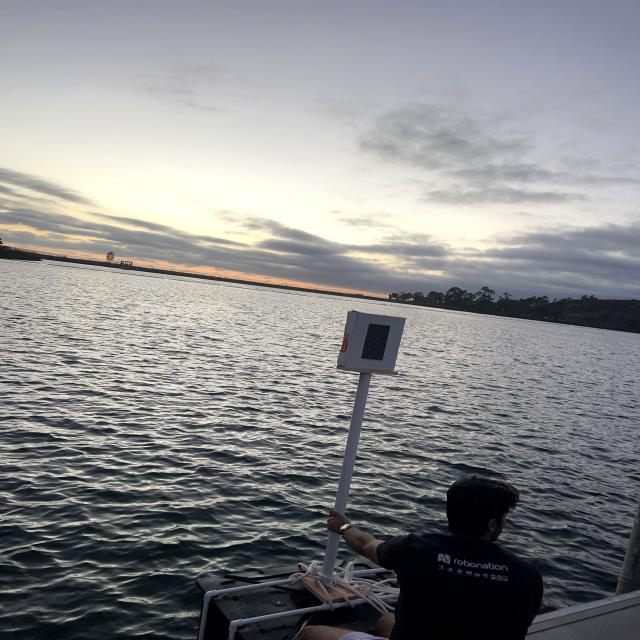led: (350, 317, 404, 373)
